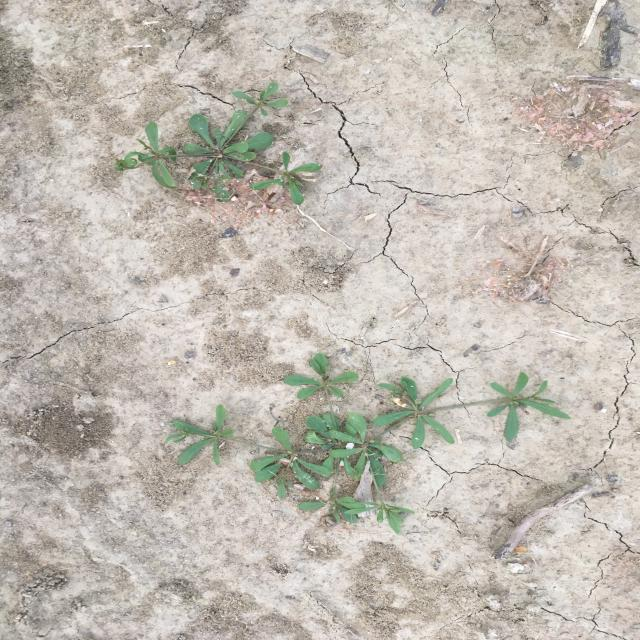Carpetweed: (160, 350, 574, 535), (112, 80, 324, 205)
